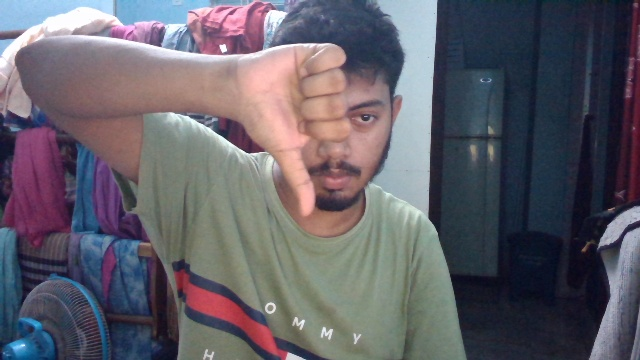no: (231, 42, 357, 219)
